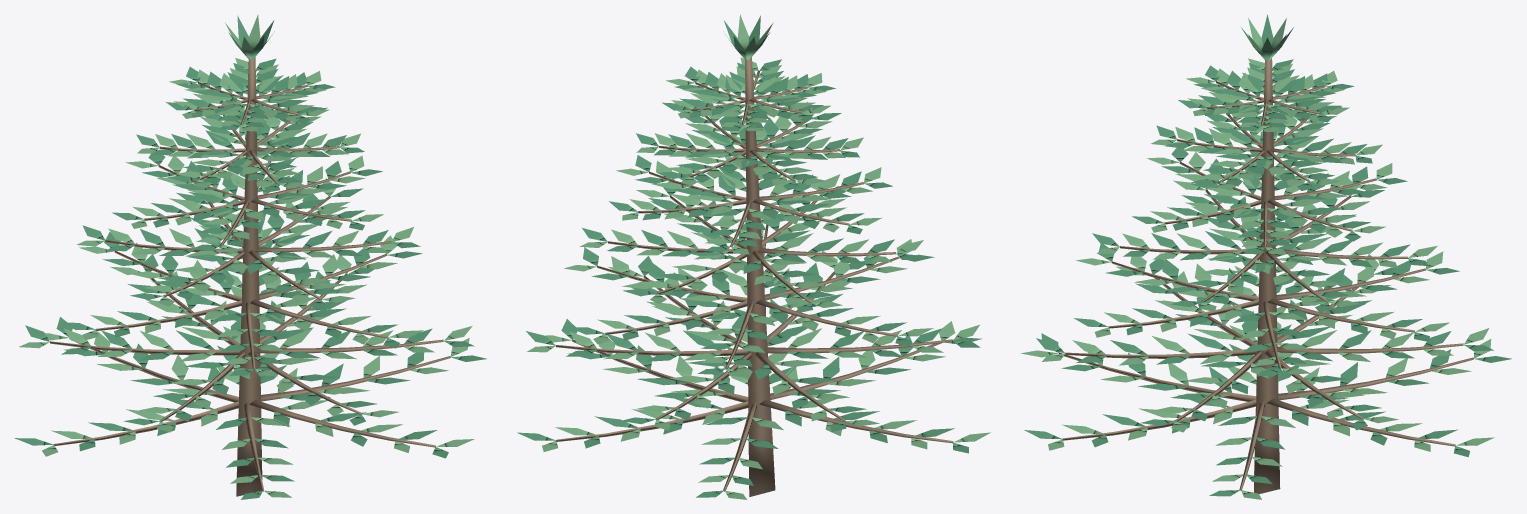
Rendered from SM_PlantPineLod2.fbx.
The picture shows the model from 3 angles, left to right: view 1: azimuth 30°, elevation 25°; view 2: azimuth 150°, elevation 25°; view 3: azimuth 270°, elevation 25°; orthographic projection.
Visible parts, largest first — view 1: PlantPineLod2; view 2: PlantPineLod2; view 3: PlantPineLod2.
Part boxes in pixels (x1=…): PlantPineLod2: x1=14, y1=15, x2=486, y2=499; PlantPineLod2: x1=517, y1=14, x2=990, y2=499; PlantPineLod2: x1=1020, y1=14, x2=1511, y2=499.
Size of the model in its own units: 2.52 by 2.5 by 2.39.
